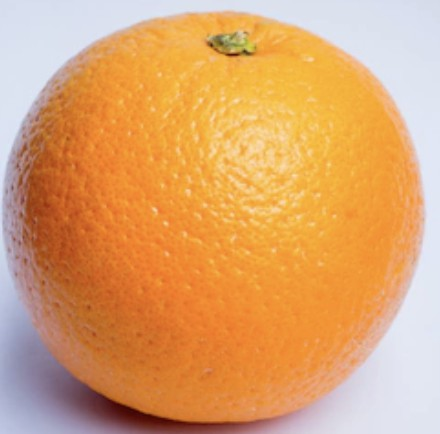fresh_orange: (5, 12, 427, 434)
